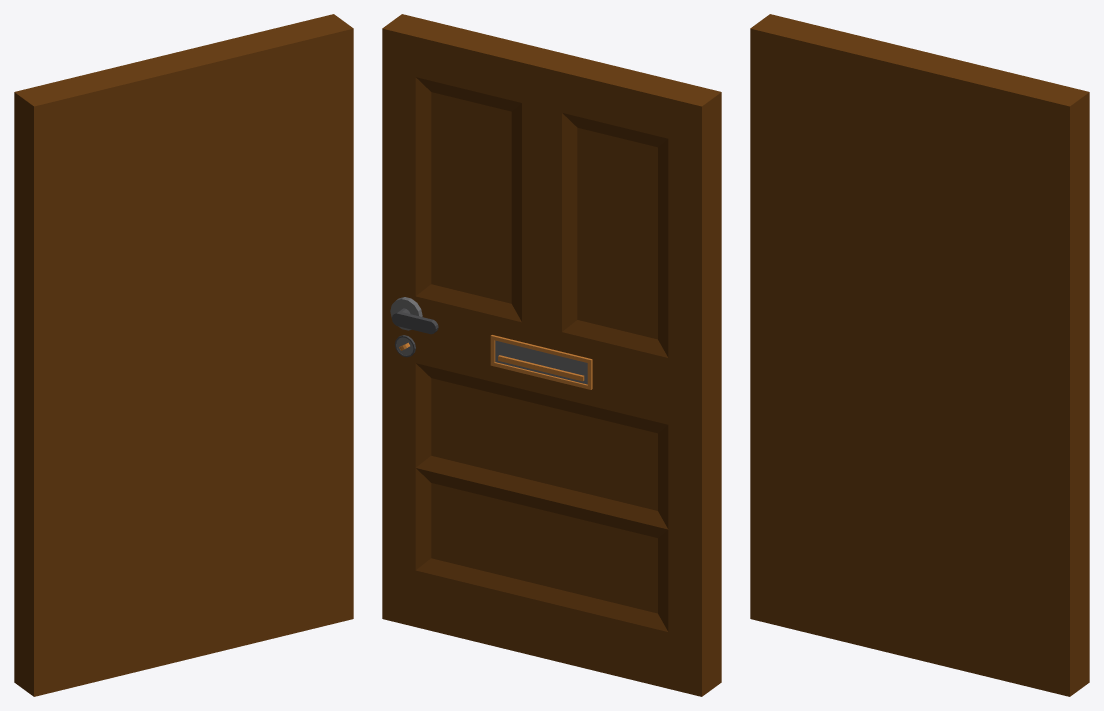
File: _rontdoor.fbx
The picture shows the model from 3 angles, left to right: view 1: azimuth 30°, elevation 25°; view 2: azimuth 150°, elevation 25°; view 3: azimuth 330°, elevation 25°; orthographic projection.
Visible parts, largest first — view 1: Cube.077; view 2: Cube.077; view 3: Cube.077.
Part boxes in pixels (x1,y1,x2,y2): Cube.077: (14, 14, 353, 696); Cube.077: (382, 14, 721, 696); Cube.077: (750, 14, 1089, 696).
Bounding box in the file's own units: 129 × 228 × 20.97.
